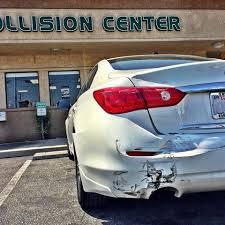rear-bumper-dent: (90, 142, 218, 204)
